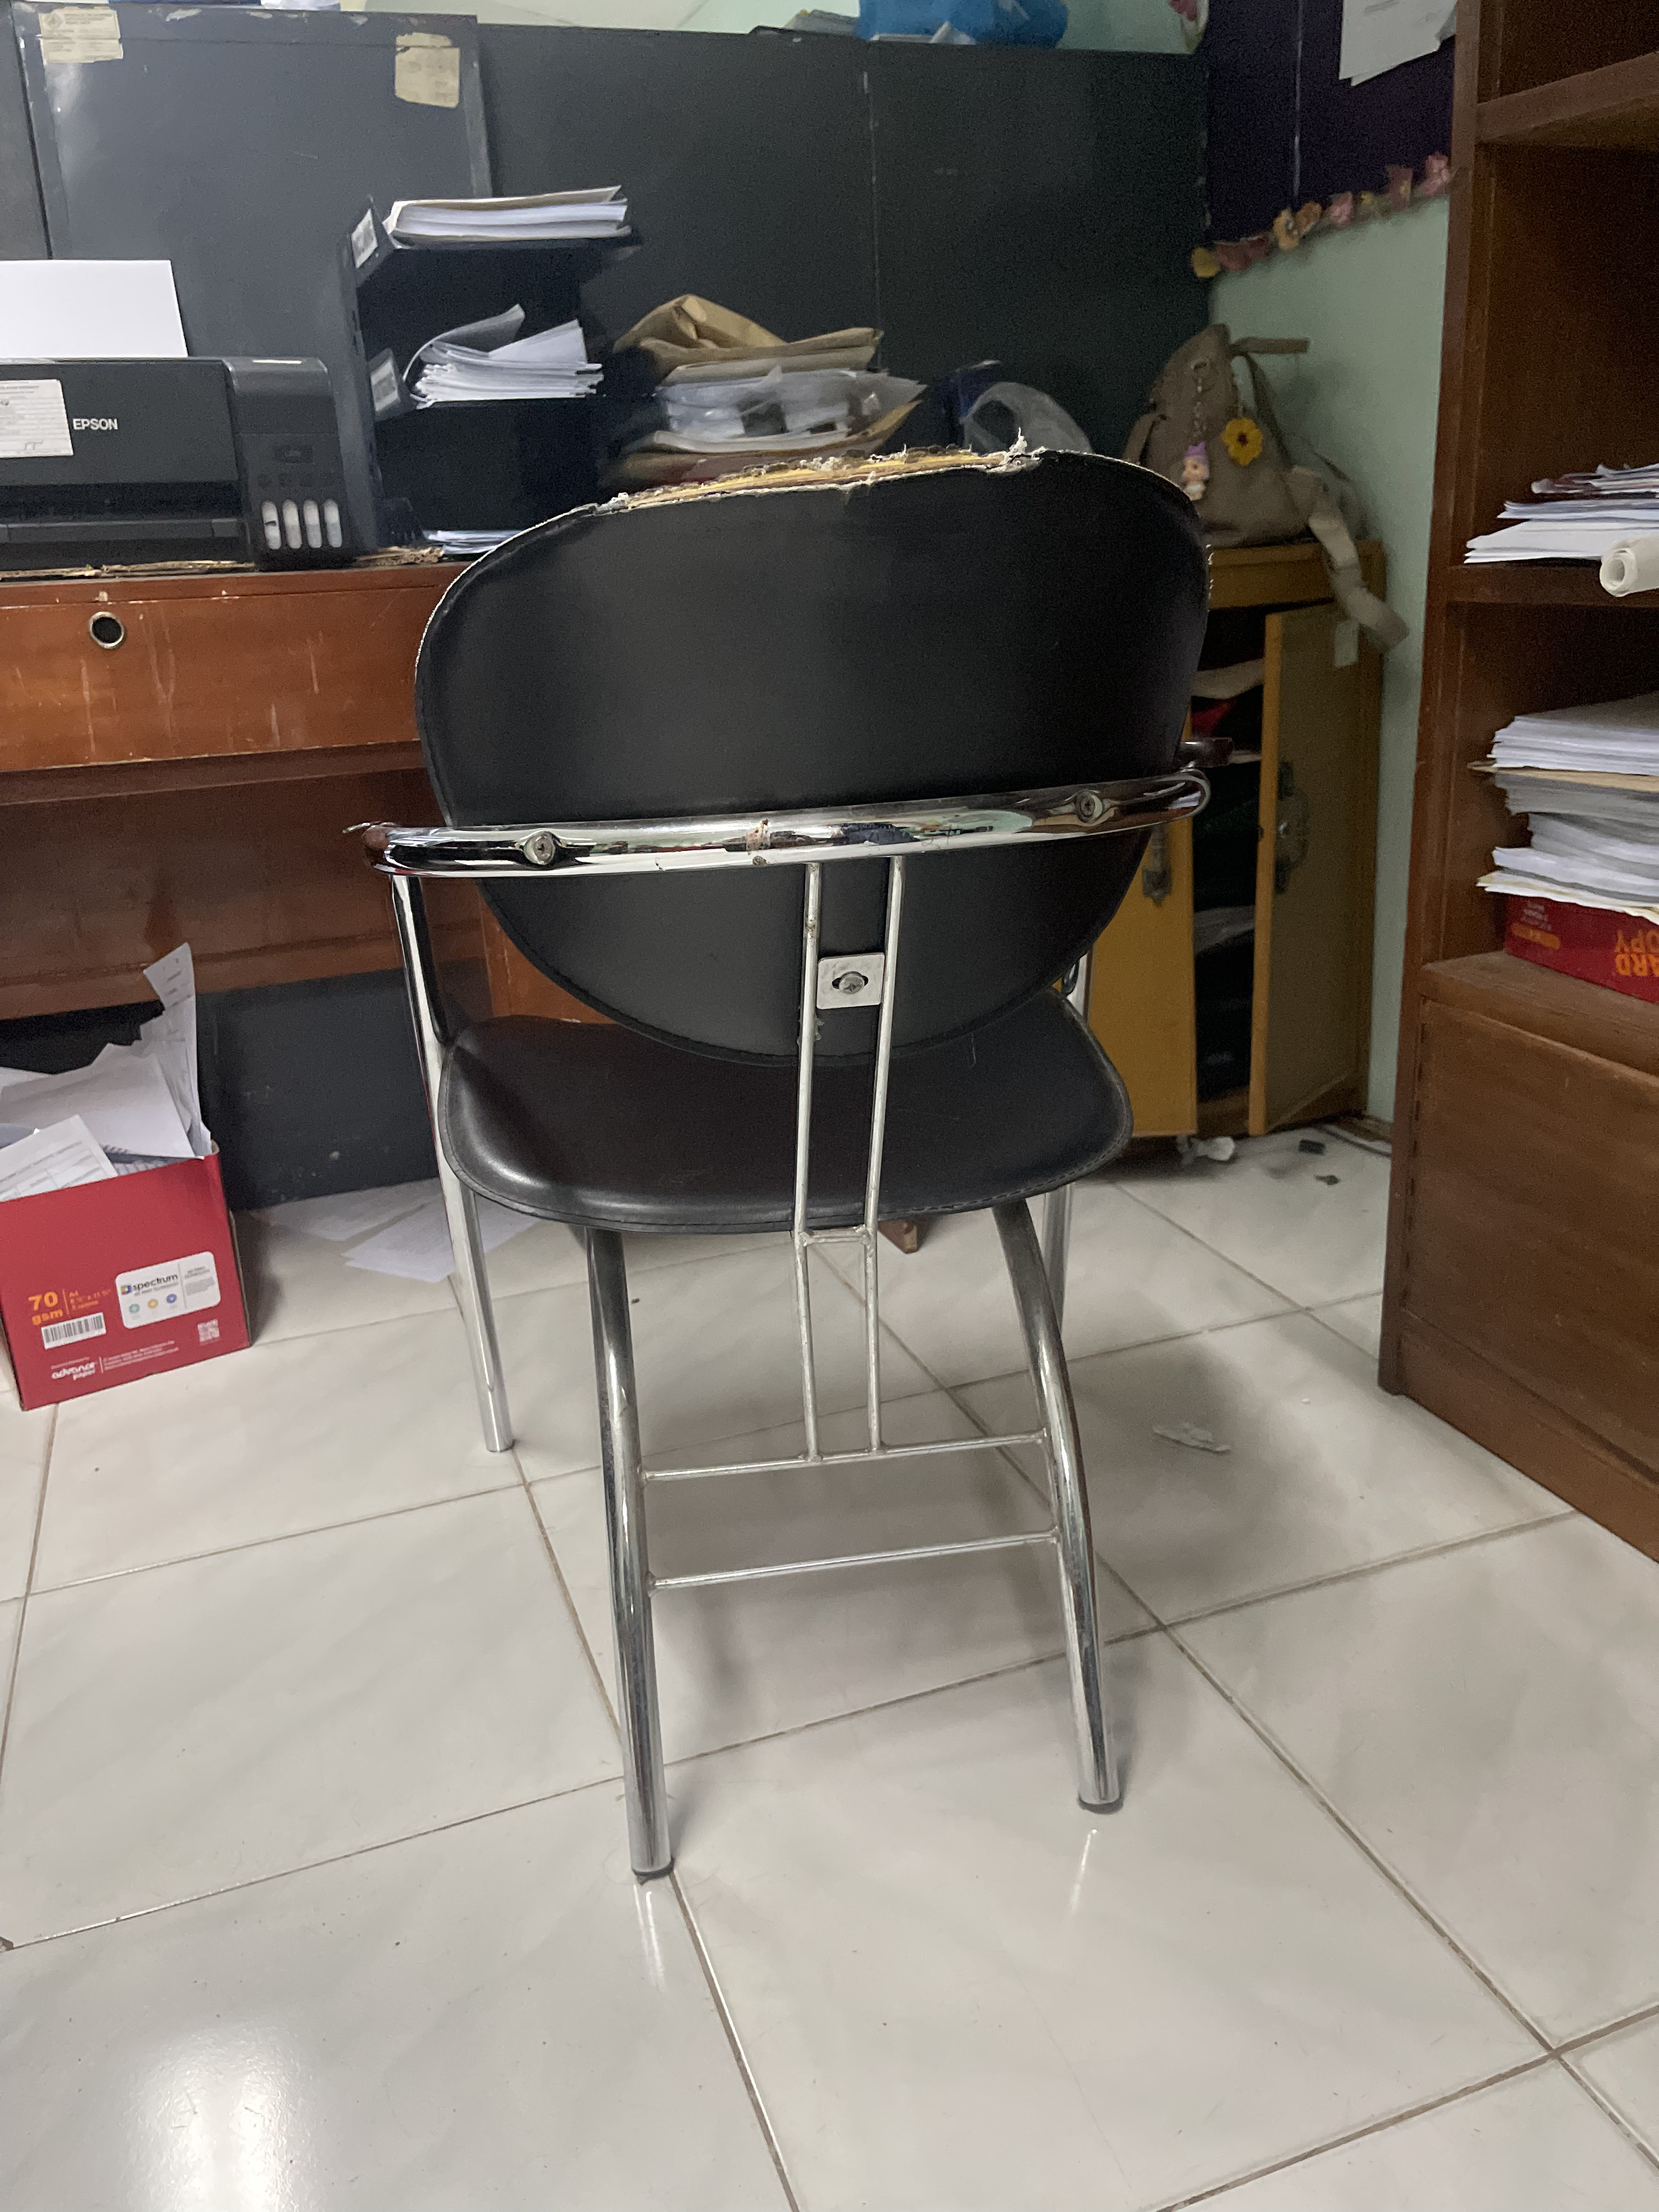chair1: (347, 448, 1241, 1888)
